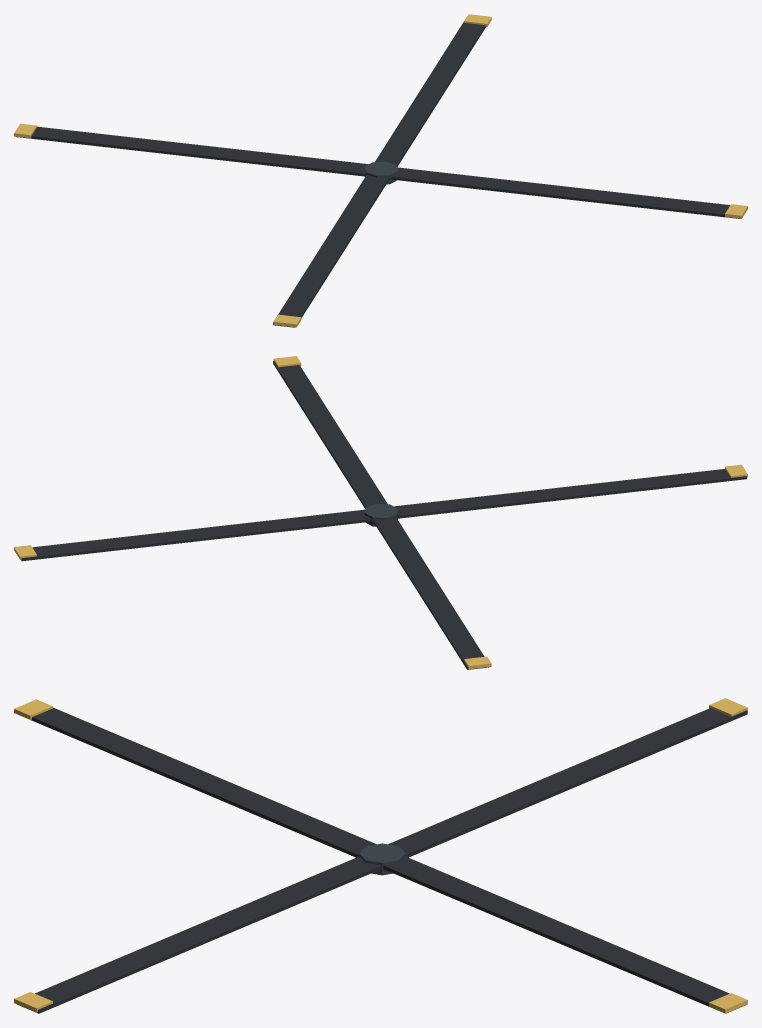
The model's file is veh_shrike_rotor.fbx.
3 renders of one model, top to bottom at view 1: azimuth 30°, elevation 25°; view 2: azimuth 150°, elevation 25°; view 3: azimuth 270°, elevation 25°, orthographic. The views are drawn at different scales.
Visible parts, largest first — view 1: veh_shrike_rotor; view 2: veh_shrike_rotor; view 3: veh_shrike_rotor.
Part boxes in pixels (box(x1,y1,x2,y2)): veh_shrike_rotor: box(14, 14, 747, 327); veh_shrike_rotor: box(14, 356, 747, 669); veh_shrike_rotor: box(14, 698, 747, 1013).
Bounding box in the file's own units: 1896 × 35 × 1889.
